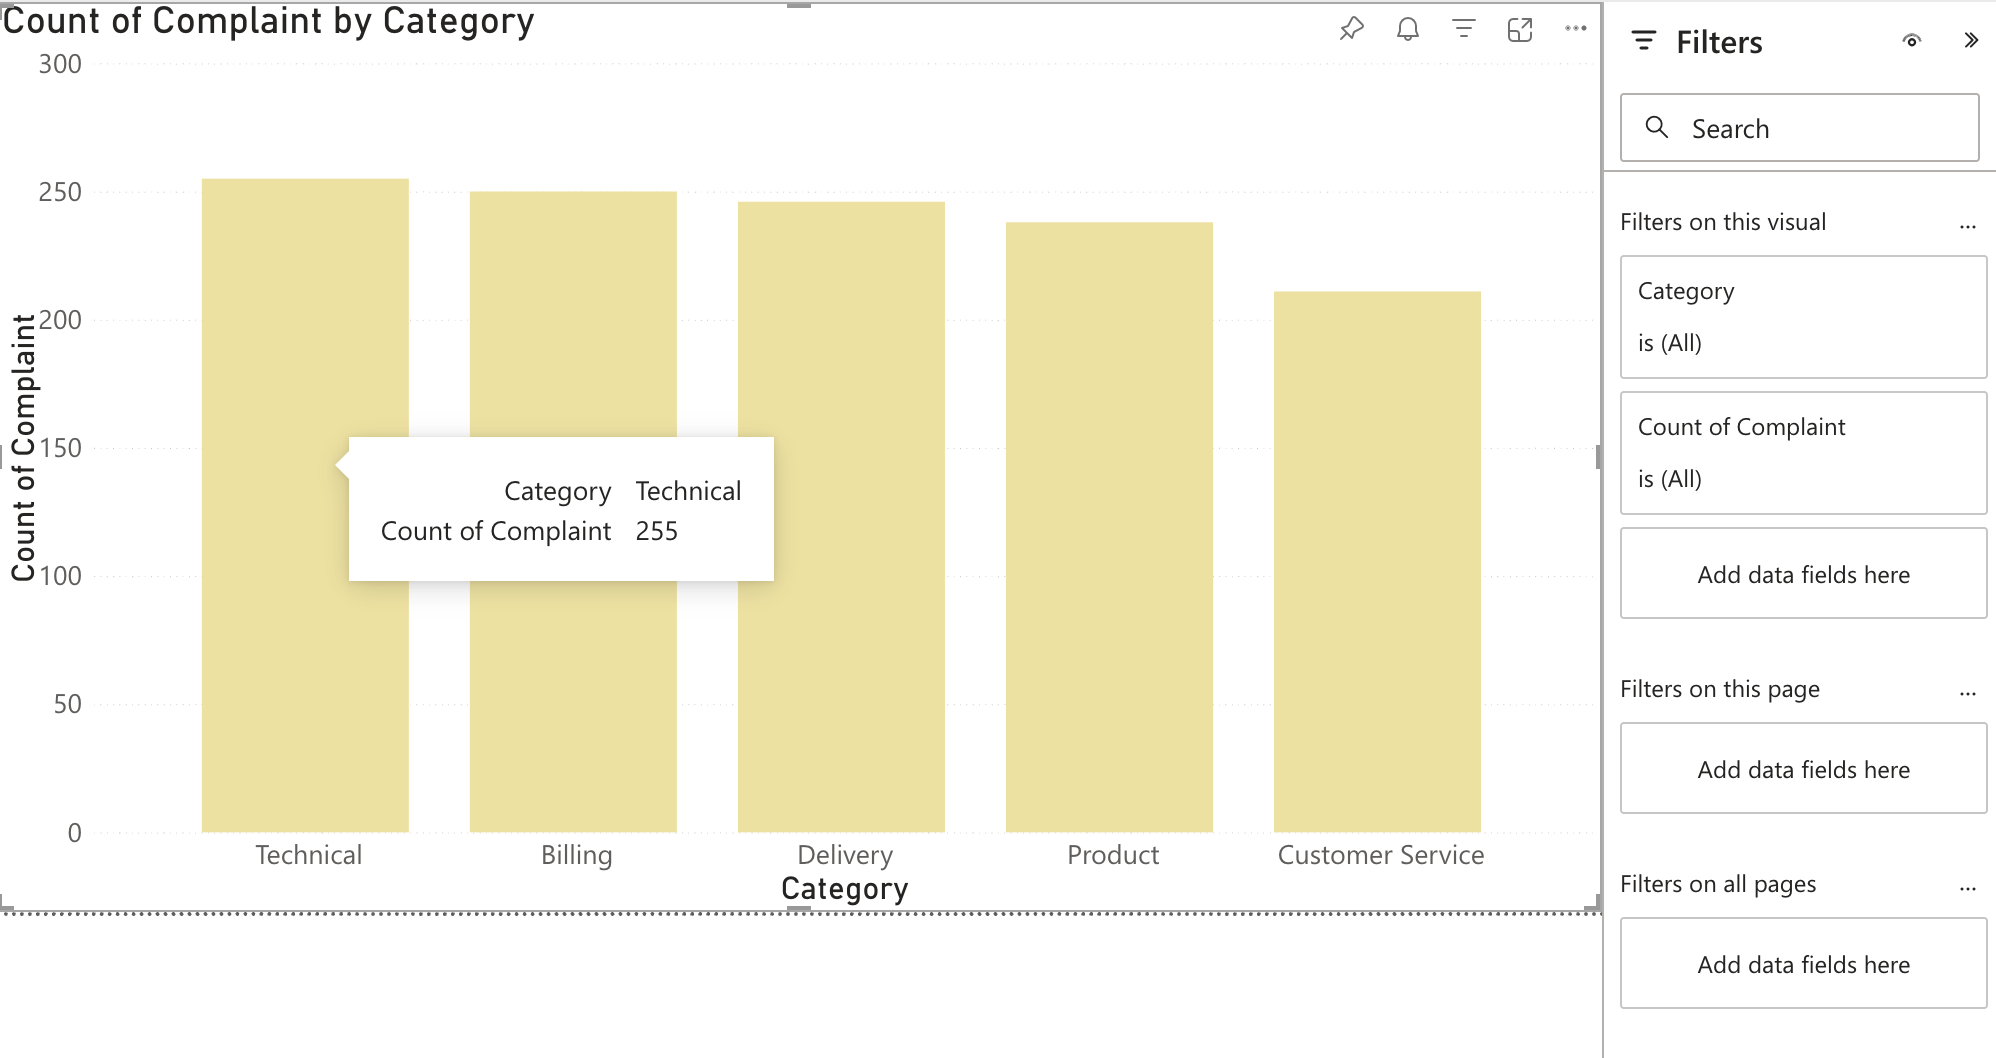

Layout of this report page (visuals, bound fields, positions):
{"tool":"powerbi","page":{"name":"Bar Chart","canvas":[1280,720],"ordinal":2},"visuals":[{"type":"columnChart","fields":{"Category":["processed_customer_feedback_dataset_for_PowerBI 2.Category"],"Y":["CountNonNull(processed_customer_feedback_dataset_for_PowerBI 2.Complaint)"]},"box":[9.5,0,1270.5,719.9],"z":0}]}

Visuals, with their boxes on the page's 1280x720 design canvas (x1, y1, x2, y2). These are canvas units, not pixel positions in the 1996x1058 screenshot, which may show the page scaled, cropped or inside an application window:
columnChart - processed_customer_feedback_dataset_for_PowerBI 2.Category x CountNonNull(processed_customer_feedback_dataset_for_PowerBI 2.Complaint): 10/0/1280/720
